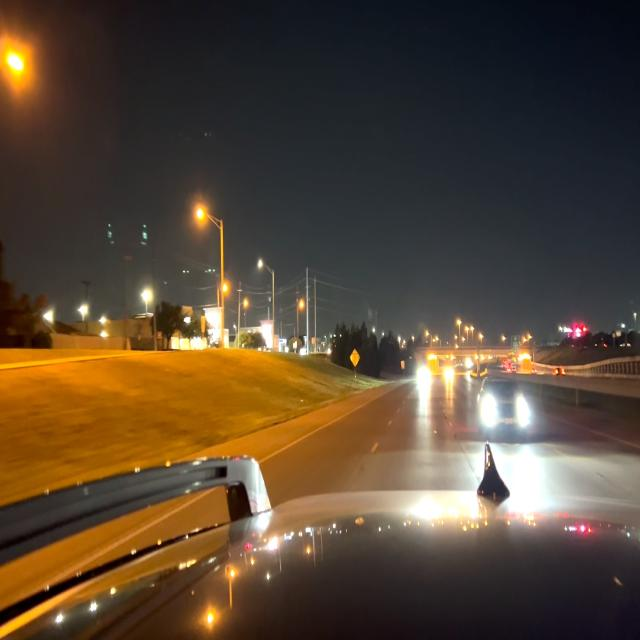back-of-sign: (350, 348, 360, 367)
